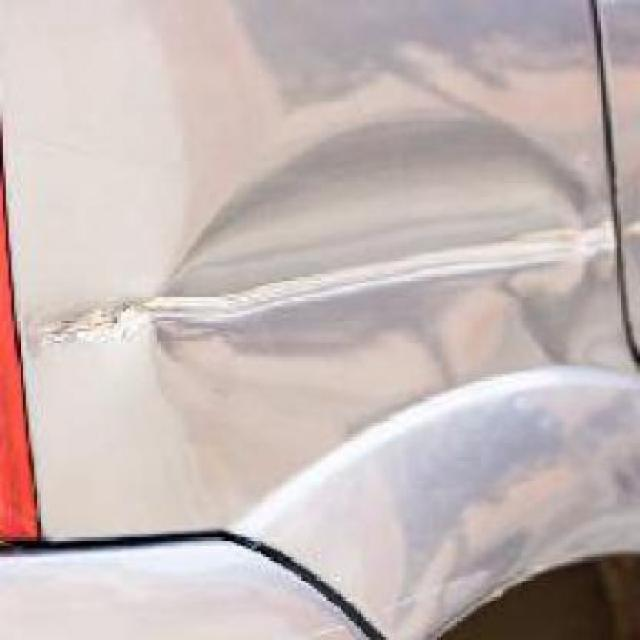dent-or-scratch: (22, 226, 638, 354)
